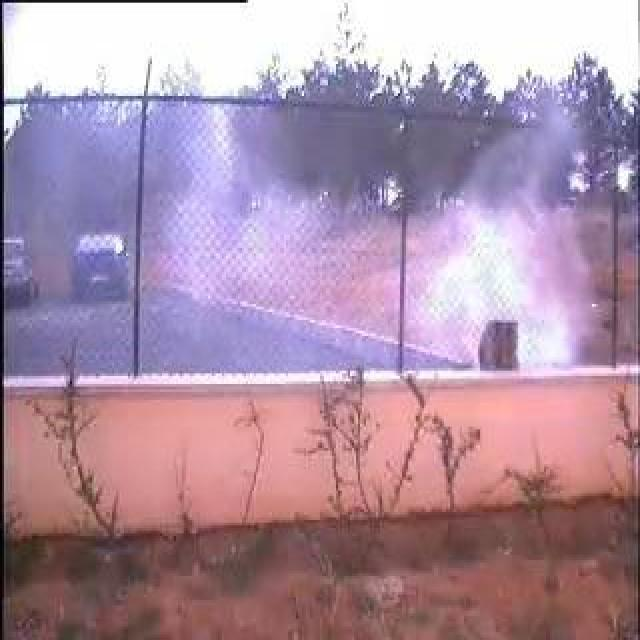Smoke: (188, 115, 582, 376)
